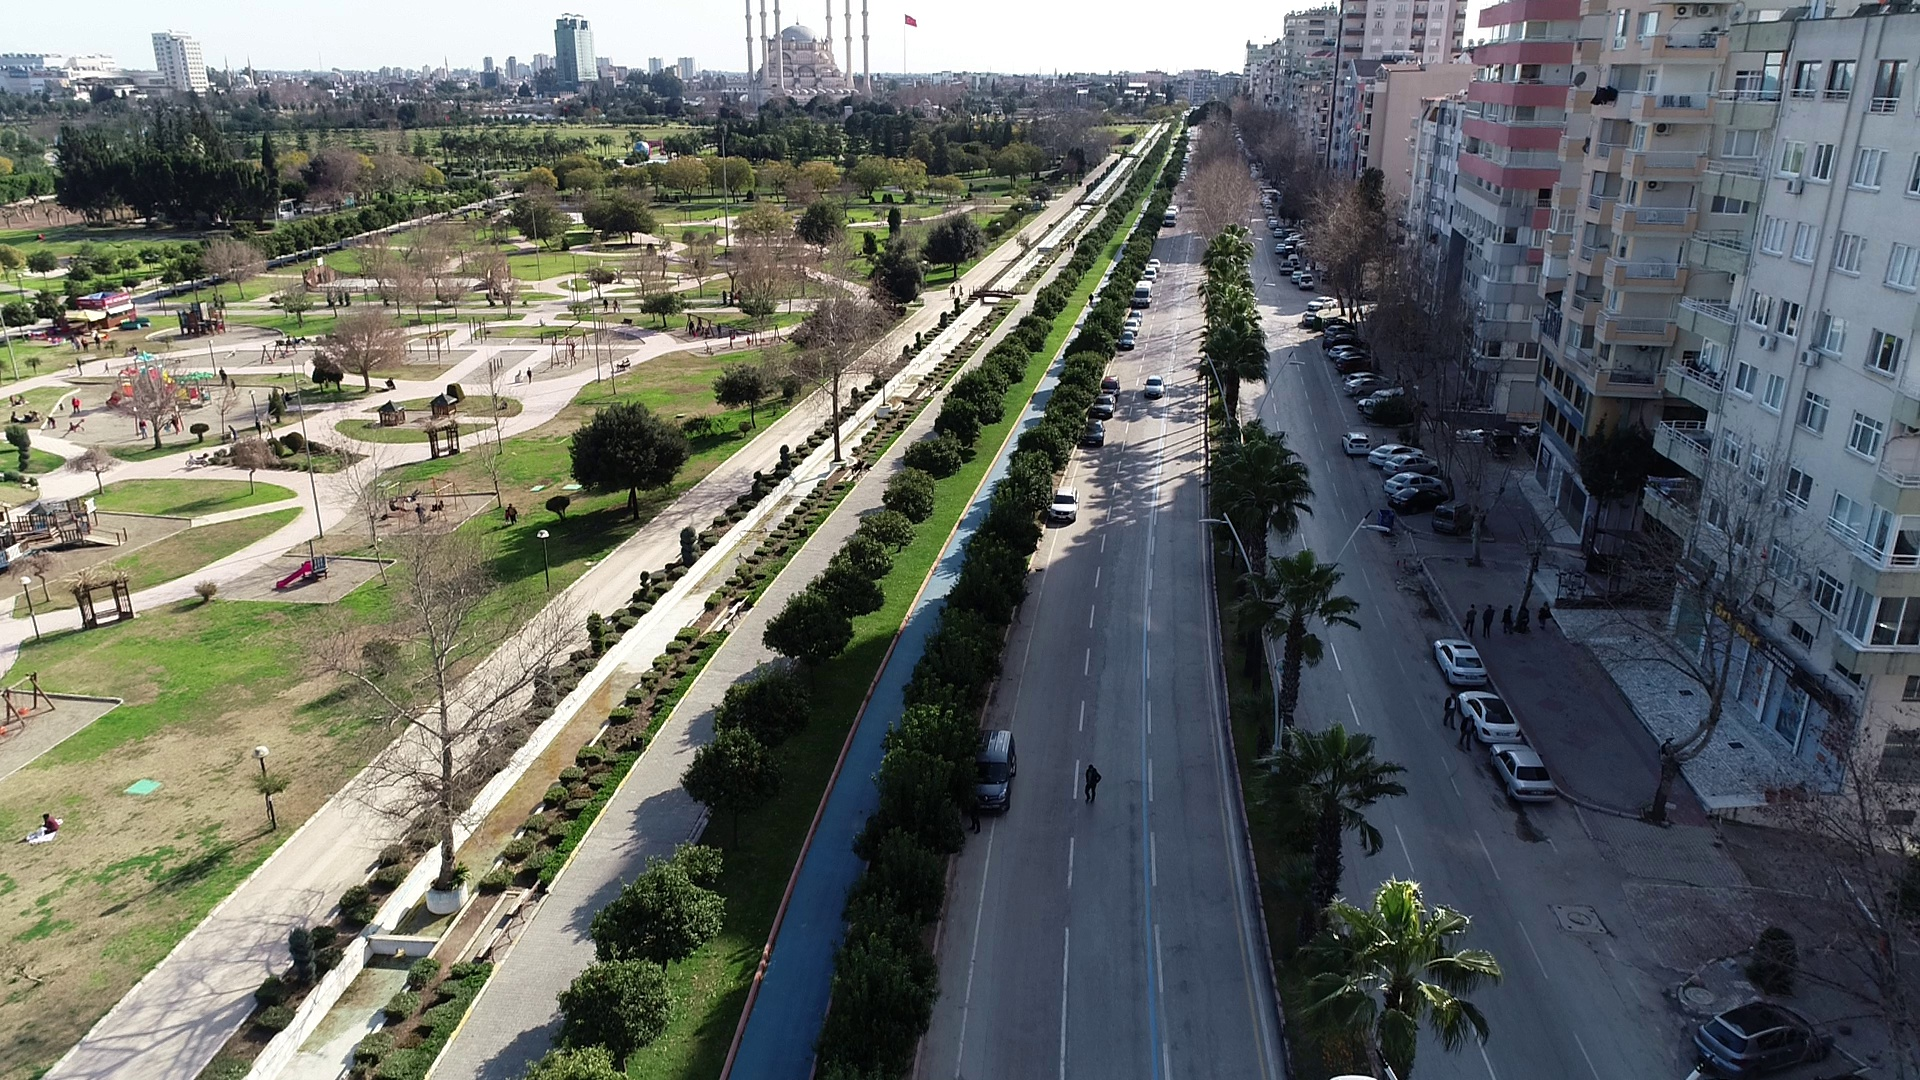car: (1700, 986, 1829, 1072), (1486, 739, 1565, 806), (966, 725, 1021, 812), (1455, 678, 1521, 743), (1431, 631, 1486, 684), (1378, 482, 1461, 515), (1429, 502, 1486, 533), (1049, 484, 1080, 527), (1143, 368, 1169, 410), (1080, 417, 1108, 453)
person: (1074, 765, 1106, 814), (1459, 714, 1480, 761), (37, 810, 66, 839), (1535, 598, 1555, 639), (1443, 692, 1461, 737), (1455, 602, 1478, 635), (1474, 600, 1496, 633), (1502, 600, 1519, 639)
